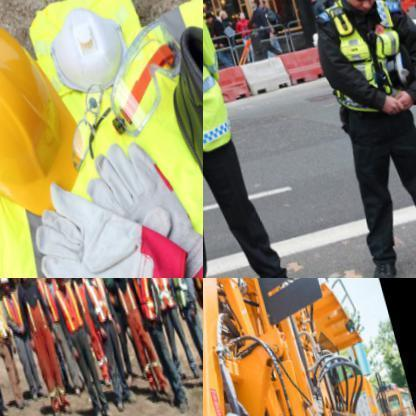vest: (0, 0, 202, 277), (319, 0, 415, 121), (203, 0, 249, 171), (48, 282, 85, 339), (78, 278, 117, 326), (127, 278, 160, 323), (0, 289, 27, 339), (143, 278, 180, 313), (162, 278, 196, 308), (0, 297, 11, 346), (183, 278, 202, 305)
